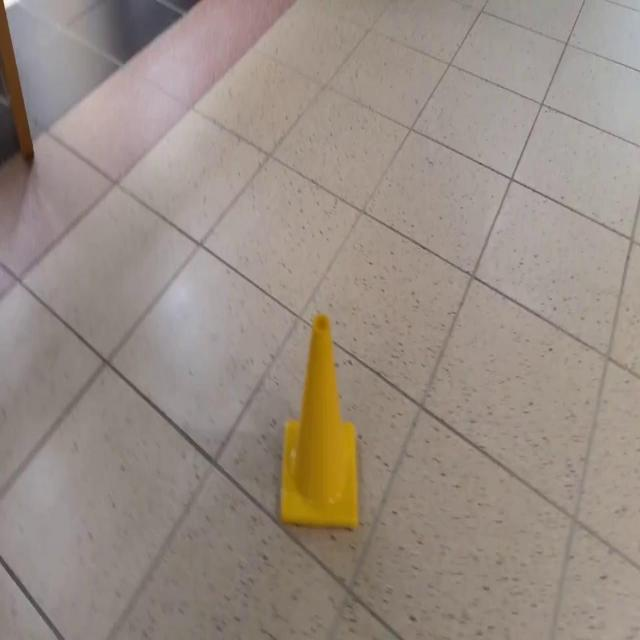frc_cone: (281, 307, 363, 536)
